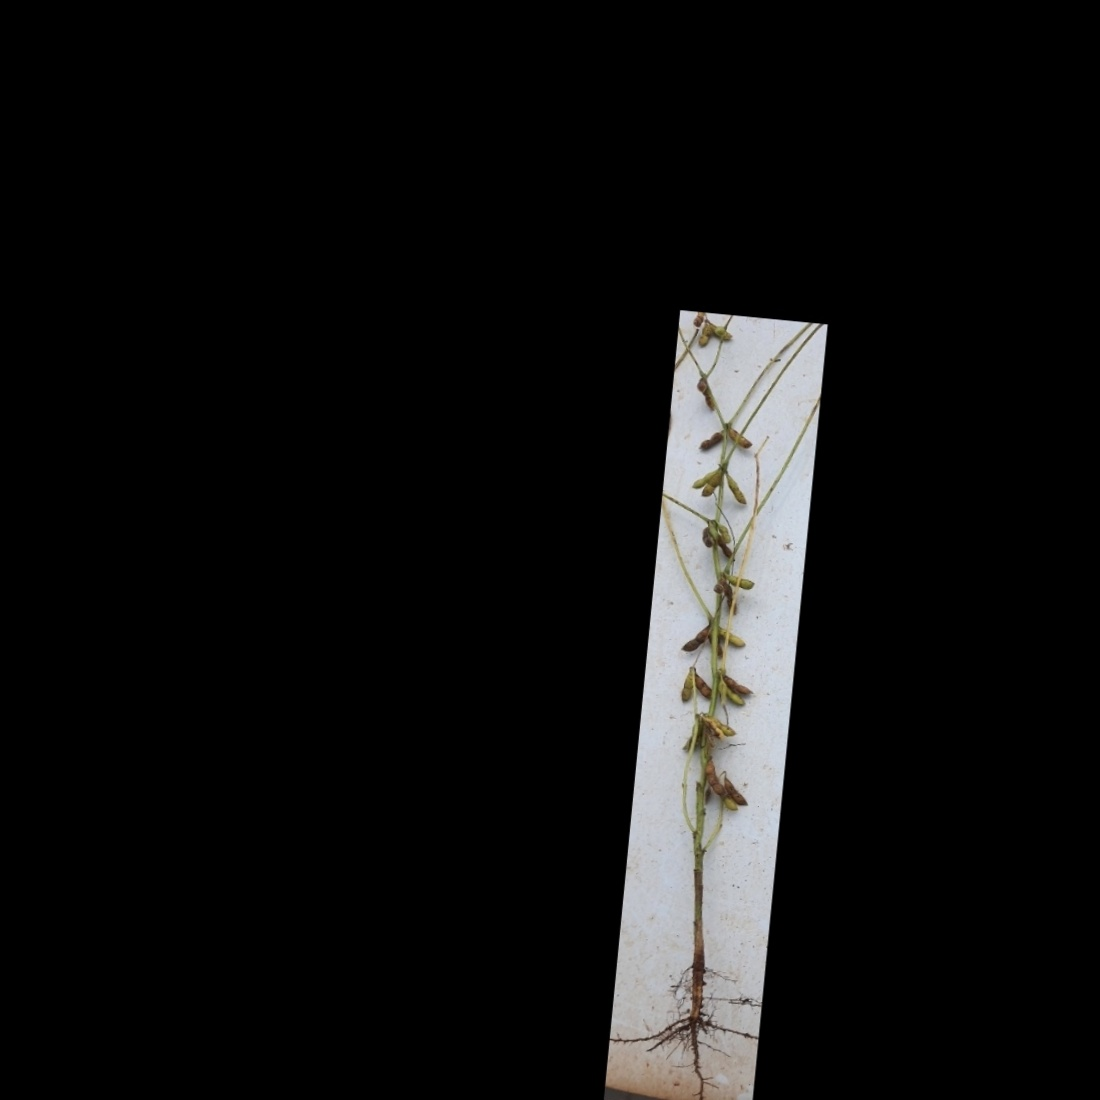pod: (702, 752, 726, 797), (678, 623, 710, 655), (722, 474, 751, 509), (716, 623, 748, 650), (724, 425, 758, 451), (696, 427, 726, 454), (689, 670, 714, 700), (726, 570, 759, 592), (677, 669, 694, 703), (695, 322, 713, 350)
soy: (612, 311, 814, 1064)
